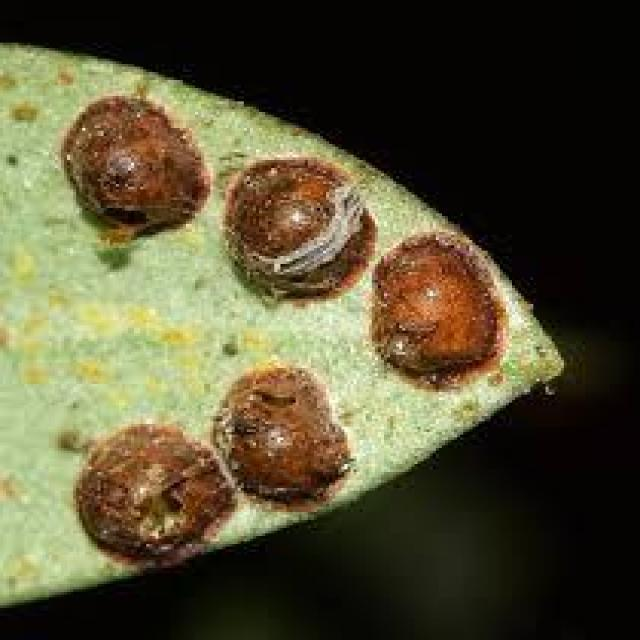BlackScale: (73, 424, 235, 571), (64, 85, 210, 245), (226, 157, 374, 300), (372, 230, 506, 386), (210, 360, 350, 509)
